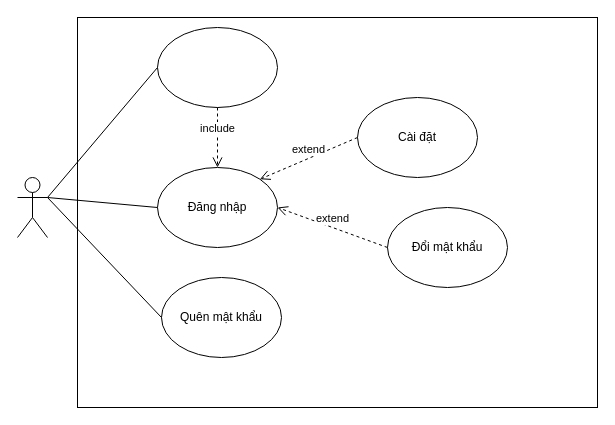
The diagram is 615 pixels wide and 425 high, and some of its shapes have lost their labels. Here are the shapes that lost their labels. From the top down, the box of each, then its label:
(156, 26, 278, 108): Đăng xuất
(16, 176, 48, 238): User
